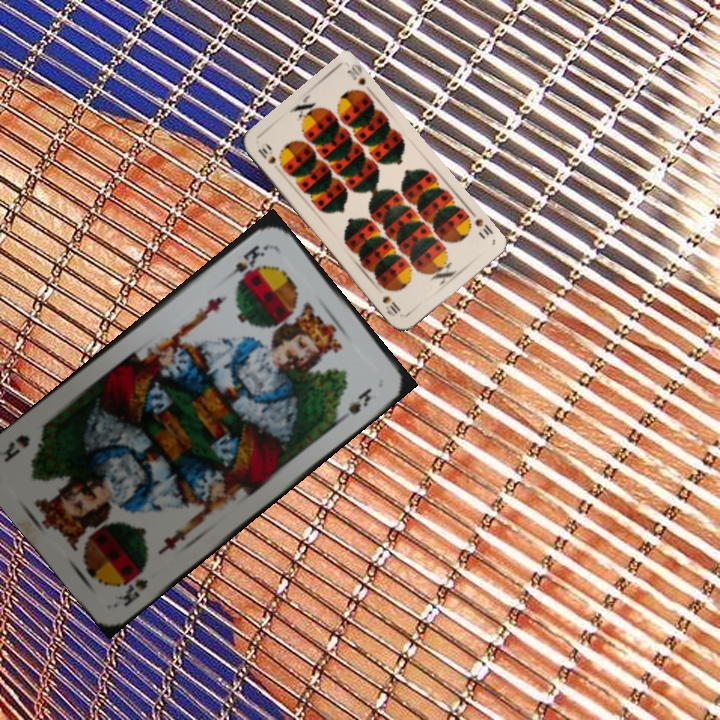S10: (253, 143, 279, 167), (471, 214, 496, 238)
SK: (220, 240, 271, 283), (114, 565, 151, 610)
